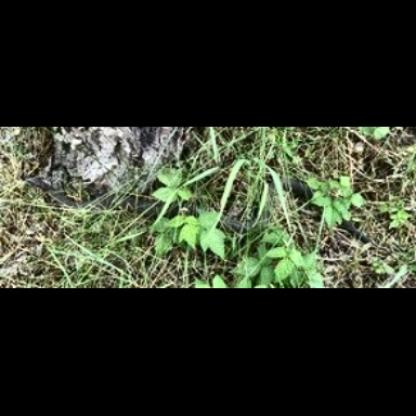Snake: (4, 124, 412, 286)
